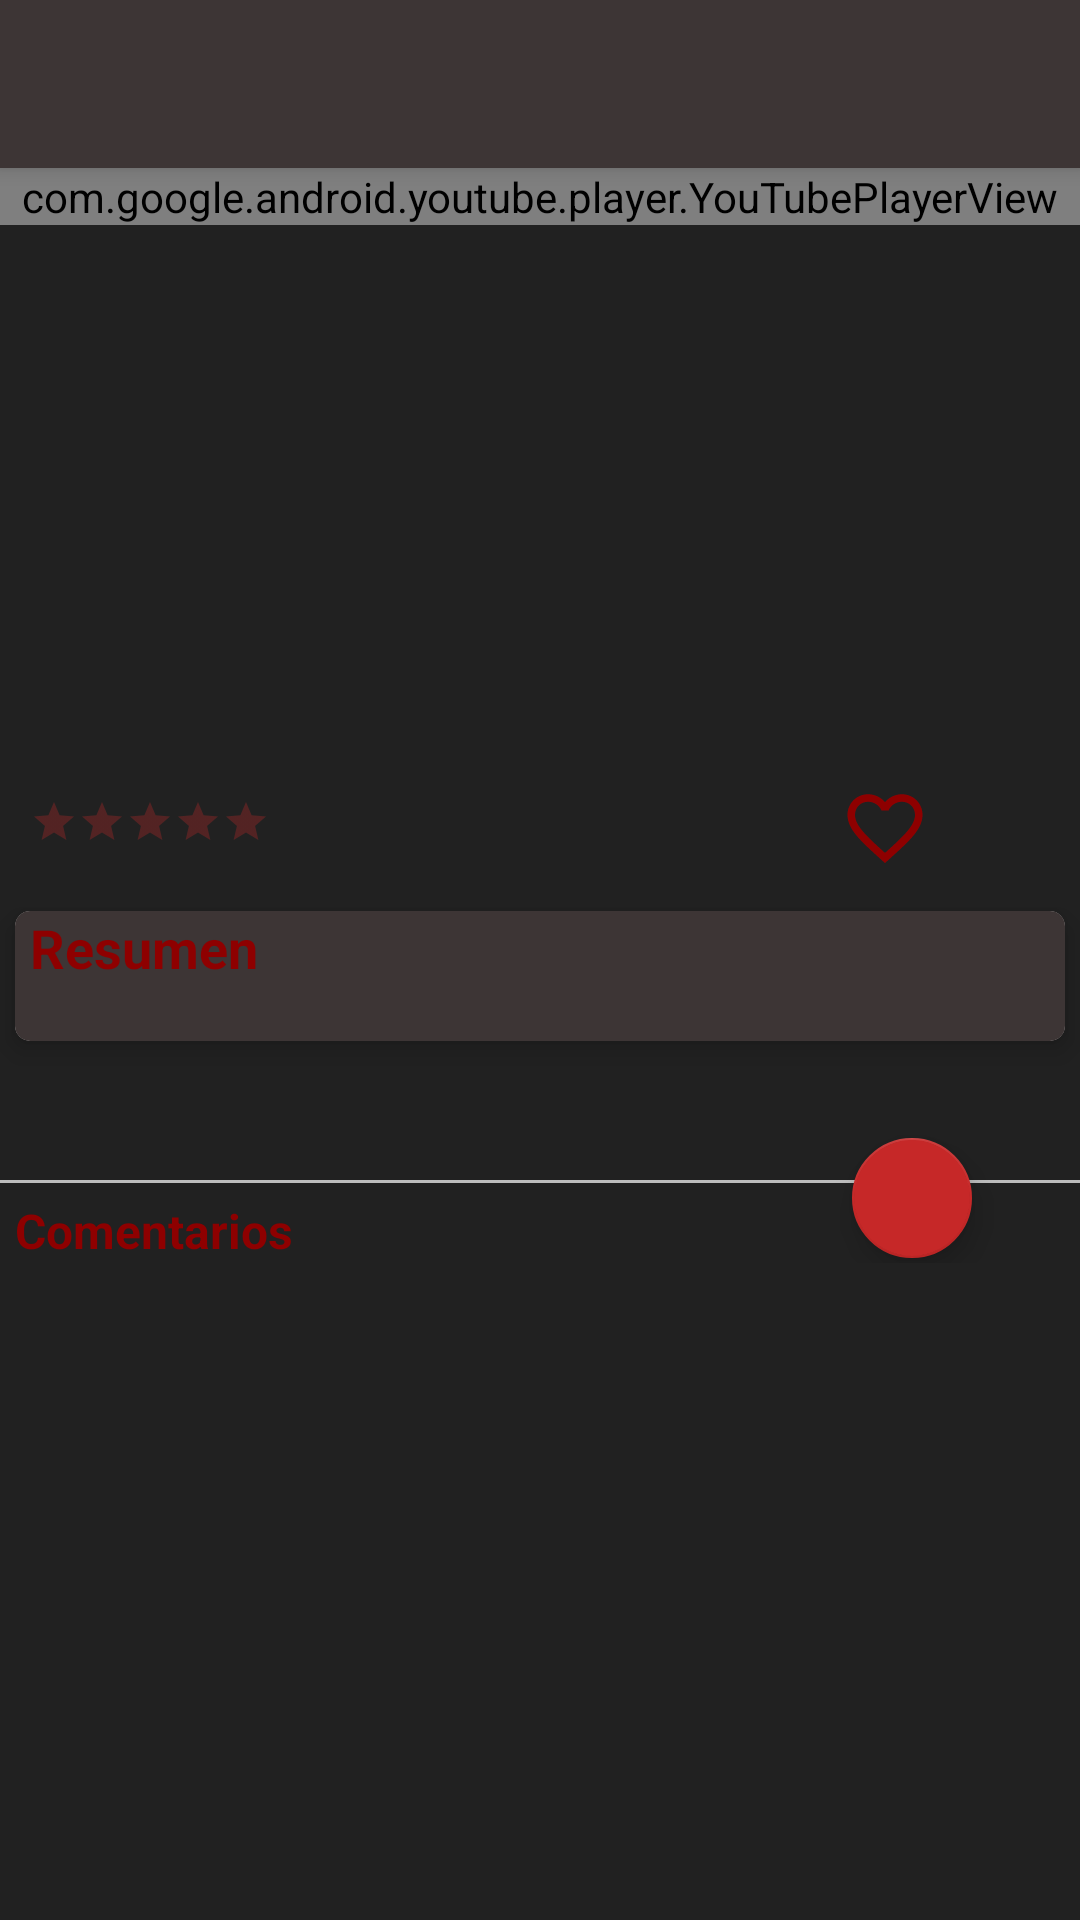

Screen size 1080*1920. Icon name, then its box in pixels as (x1=x1, y1=y1, x2=x2, y2=y2):
favorite border: (x1=847, y1=794, x2=923, y2=863)
